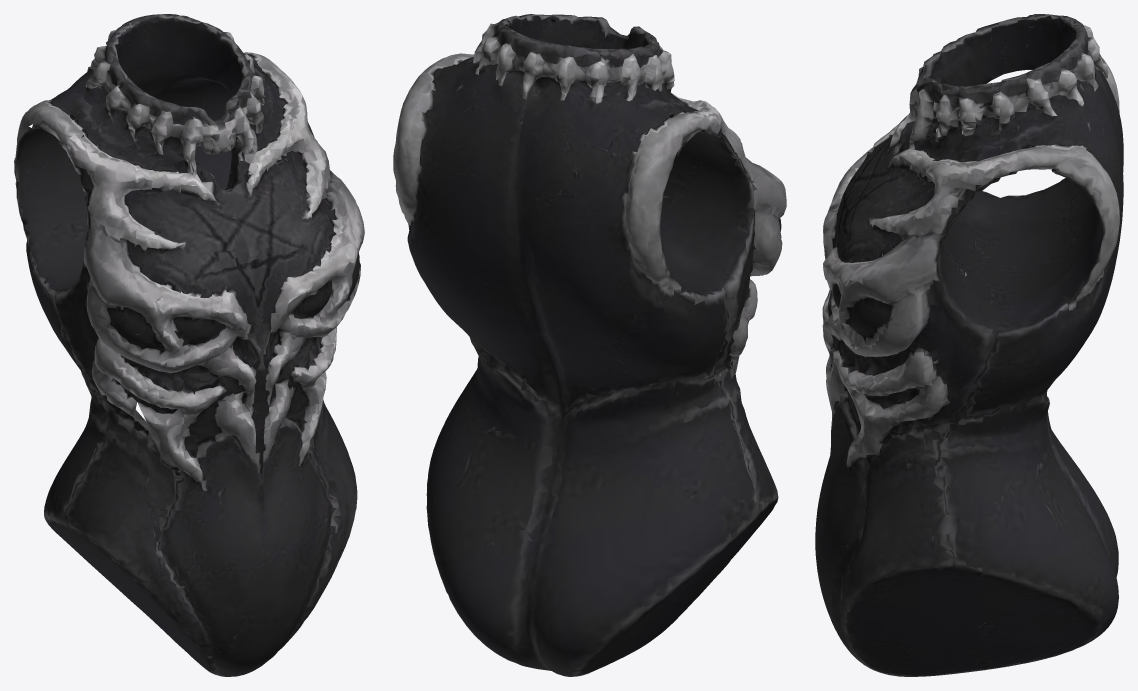
File: zirh_kemik.glb
3 views of the same model, side by side, from view 1: azimuth 30°, elevation 25°; view 2: azimuth 150°, elevation 25°; view 3: azimuth 270°, elevation 25° (orthographic). The views are drawn at different scales.
Visible parts, largest first — view 1: zirh_kemik; view 2: zirh_kemik; view 3: zirh_kemik.
Boxes of the visible parts, x1=… form: zirh_kemik: x1=14, y1=14, x2=364, y2=676; zirh_kemik: x1=393, y1=14, x2=786, y2=676; zirh_kemik: x1=815, y1=14, x2=1123, y2=676.
Size of the model in its own units: 0.9223 by 1.9 by 0.8275.
Materials: 1 (1 with a texture image).
